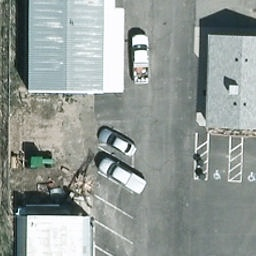car: (96, 126, 137, 160)
pickup: (97, 158, 147, 196), (129, 34, 151, 84)
tractor: (23, 150, 53, 172)
